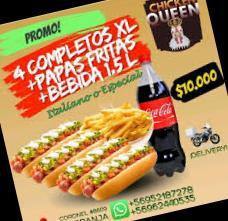Completos: (69, 140, 166, 204), (56, 131, 138, 202)
